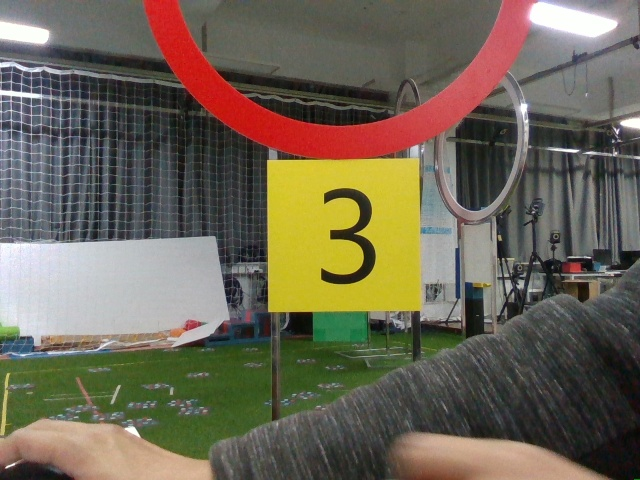target: (266, 156, 418, 308)
